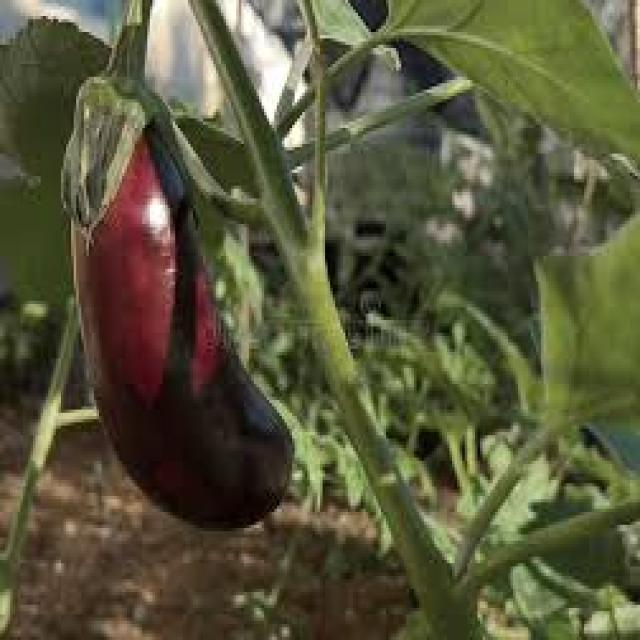Eggplant: (64, 16, 298, 536)
